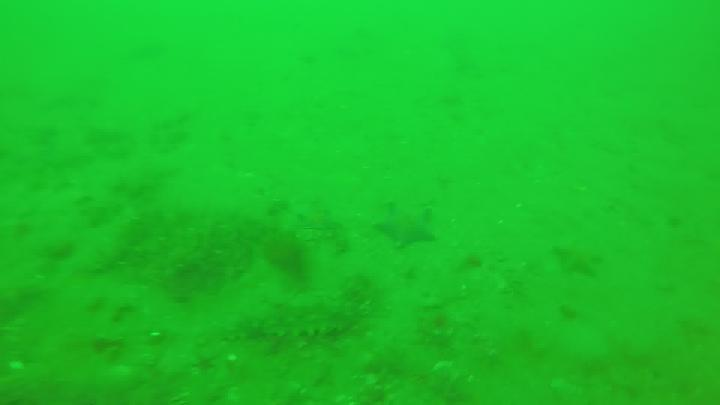holothurian: (220, 302, 349, 337)
starfish: (373, 204, 438, 249), (559, 242, 603, 278)
